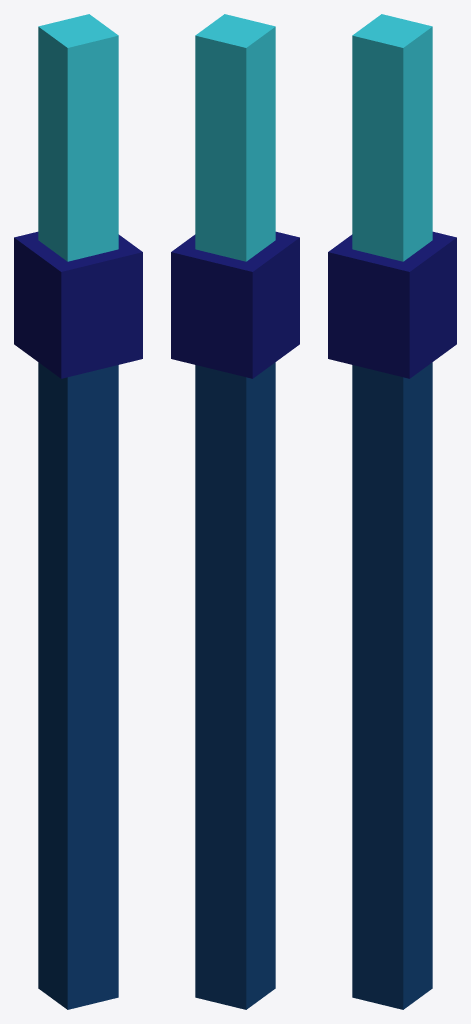
File: IcicleSpear.fbx
3 views of the same model, side by side, from view 1: azimuth 30°, elevation 25°; view 2: azimuth 150°, elevation 25°; view 3: azimuth 330°, elevation 25° (orthographic).
Visible parts, largest first — view 1: Cube.001, Cube.002, Cube.003; view 2: Cube.001, Cube.002, Cube.003; view 3: Cube.001, Cube.002, Cube.003.
Boxes of the visible parts, x1,y1,x2,y2 form: Cube.001: [38, 362, 118, 1009]; Cube.002: [38, 14, 118, 261]; Cube.003: [14, 231, 142, 378]; Cube.001: [195, 362, 275, 1009]; Cube.002: [195, 14, 275, 261]; Cube.003: [171, 231, 299, 378]; Cube.001: [352, 362, 432, 1009]; Cube.002: [352, 14, 432, 261]; Cube.003: [328, 231, 456, 378].
Size of the model in its own units: 16 by 180 by 16.
